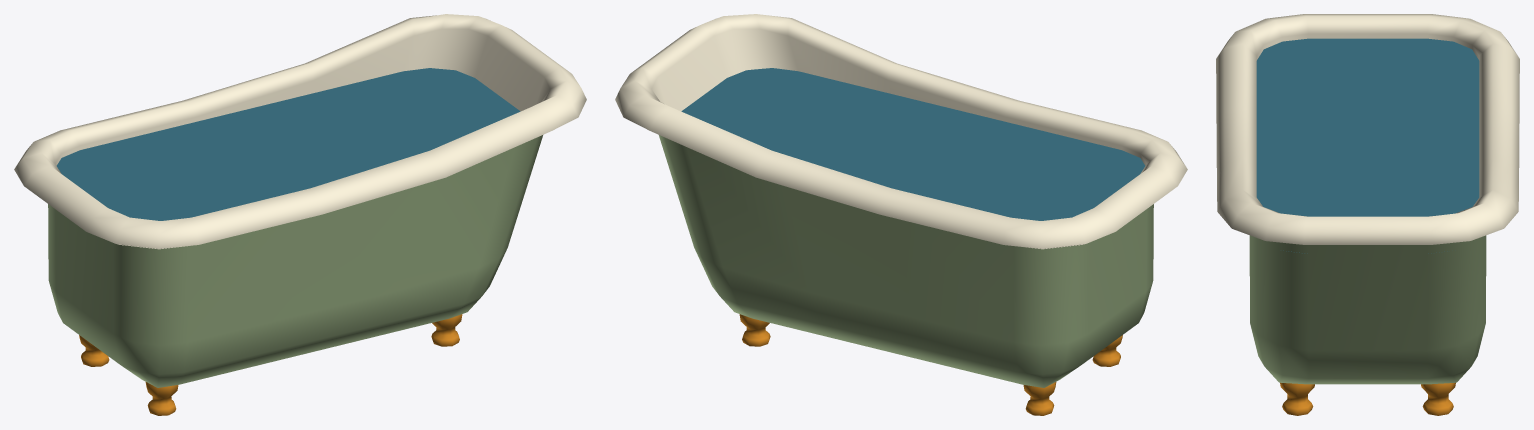
File: itch_assetquest_pond_bathtub.glb
3 views of the same model, side by side, from view 1: azimuth 30°, elevation 25°; view 2: azimuth 150°, elevation 25°; view 3: azimuth 270°, elevation 25° (orthographic). The views are drawn at different scales.
Visible parts, largest first — view 1: Bathtub, Bathtub_Water; view 2: Bathtub, Bathtub_Water; view 3: Bathtub, Bathtub_Water.
Part boxes in pixels (x1,y1,x2,y2): Bathtub: [14, 14, 586, 415]; Bathtub_Water: [56, 68, 520, 220]; Bathtub: [615, 14, 1187, 415]; Bathtub_Water: [681, 68, 1145, 220]; Bathtub: [1216, 14, 1519, 415]; Bathtub_Water: [1256, 38, 1479, 253].
Bounding box in the file's own units: 0.96 × 0.4519 × 0.4898.
